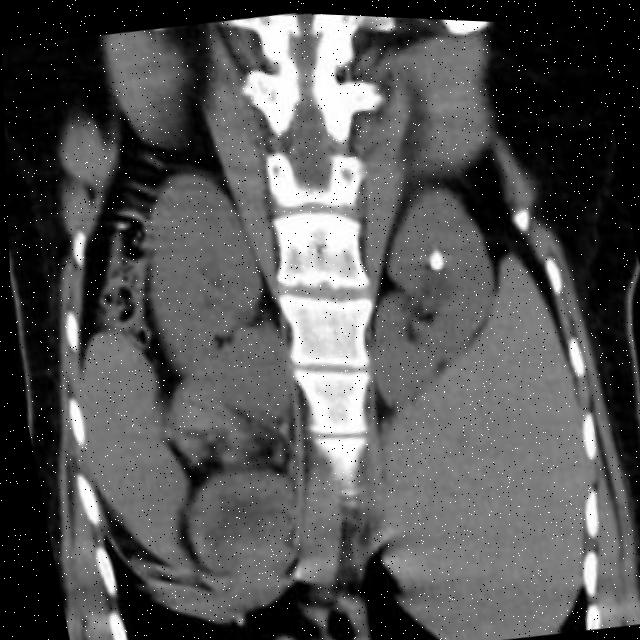Tas_Var: (421, 240, 445, 275)
